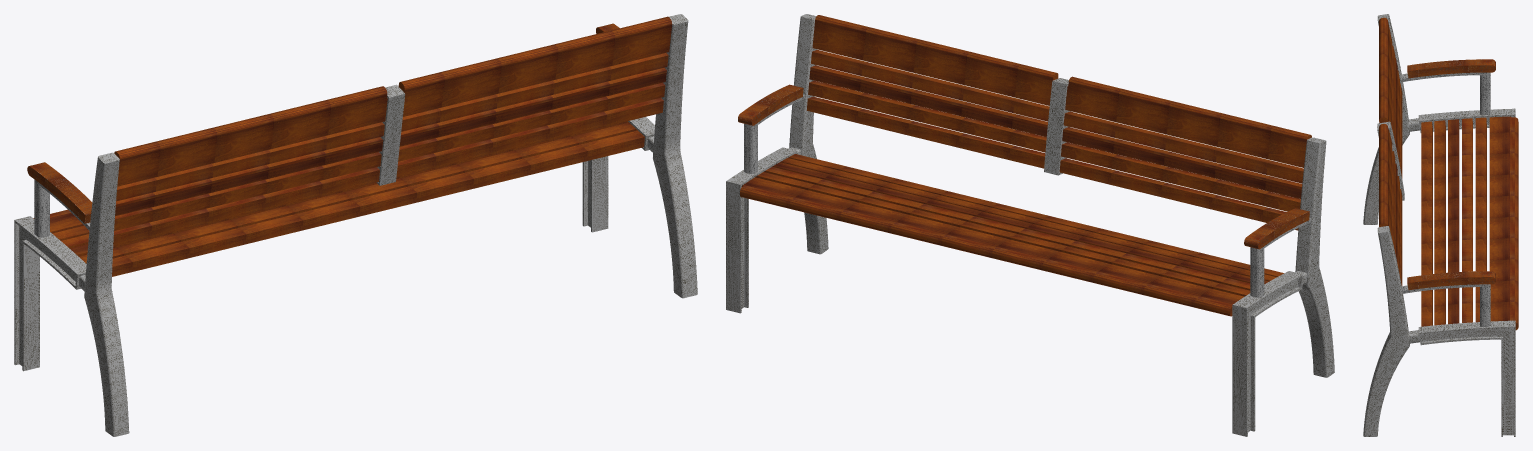
The picture shows the model from 3 angles, left to right: view 1: azimuth 30°, elevation 25°; view 2: azimuth 150°, elevation 25°; view 3: azimuth 270°, elevation 25°; orthographic projection. The views are drawn at different scales.
Visible parts, largest first — view 1: mesh11_mesh11-geometry, mesh1_mesh1-geometry, mesh8_mesh8-geometry, mesh3_mesh3-geometry, mesh7_mesh7-geometry, mesh6_mesh6-geometry, mesh13_mesh13-geometry, mesh5_mesh5-geometry, mesh9_mesh9-geometry, mesh2_mesh2-geometry, mesh15_mesh15-geometry, mesh10_mesh10-geometry; view 2: mesh11_mesh11-geometry, mesh14_mesh14-geometry, mesh1_mesh1-geometry, mesh13_mesh13-geometry, mesh6_mesh6-geometry, mesh5_mesh5-geometry, mesh3_mesh3-geometry, mesh7_mesh7-geometry, mesh12_mesh12-geometry, mesh4_mesh4-geometry, mesh10_mesh10-geometry, mesh9_mesh9-geometry (+4 smaller); view 3: mesh3_mesh3-geometry, mesh14_mesh14-geometry, mesh1_mesh1-geometry, mesh11_mesh11-geometry, mesh9_mesh9-geometry, mesh8_mesh8-geometry, mesh10_mesh10-geometry, mesh4_mesh4-geometry, mesh12_mesh12-geometry, mesh15_mesh15-geometry, mesh16_mesh16-geometry, mesh5_mesh5-geometry (+4 smaller).
Part boxes in pixels (box(x1,y1,x2,y2)): mesh11_mesh11-geometry: box(114, 16, 672, 186); mesh1_mesh1-geometry: box(14, 152, 129, 436); mesh8_mesh8-geometry: box(112, 130, 644, 276); mesh3_mesh3-geometry: box(582, 14, 697, 298); mesh7_mesh7-geometry: box(113, 98, 663, 246); mesh6_mesh6-geometry: box(114, 82, 665, 230); mesh13_mesh13-geometry: box(115, 67, 666, 216); mesh5_mesh5-geometry: box(116, 53, 668, 201); mesh9_mesh9-geometry: box(79, 122, 637, 263); mesh2_mesh2-geometry: box(376, 84, 405, 185); mesh15_mesh15-geometry: box(27, 162, 92, 223); mesh10_mesh10-geometry: box(70, 121, 628, 256); mesh11_mesh11-geometry: box(812, 15, 1311, 167); mesh14_mesh14-geometry: box(740, 177, 1243, 316); mesh1_mesh1-geometry: box(1232, 137, 1334, 436); mesh13_mesh13-geometry: box(809, 65, 1302, 198); mesh6_mesh6-geometry: box(808, 80, 1300, 211); mesh5_mesh5-geometry: box(811, 50, 1303, 183); mesh3_mesh3-geometry: box(726, 14, 828, 313); mesh7_mesh7-geometry: box(806, 96, 1298, 230); mesh12_mesh12-geometry: box(755, 172, 1250, 296); mesh4_mesh4-geometry: box(764, 167, 1250, 290); mesh10_mesh10-geometry: box(772, 162, 1268, 284); mesh9_mesh9-geometry: box(780, 158, 1276, 281); mesh3_mesh3-geometry: box(1363, 226, 1515, 436); mesh14_mesh14-geometry: box(1489, 116, 1518, 330); mesh1_mesh1-geometry: box(1363, 14, 1515, 224); mesh11_mesh11-geometry: box(1379, 17, 1392, 238); mesh9_mesh9-geometry: box(1434, 120, 1445, 325); mesh8_mesh8-geometry: box(1421, 121, 1432, 326); mesh10_mesh10-geometry: box(1448, 119, 1459, 324); mesh4_mesh4-geometry: box(1462, 118, 1472, 322); mesh12_mesh12-geometry: box(1475, 117, 1486, 322); mesh15_mesh15-geometry: box(1407, 59, 1495, 78); mesh16_mesh16-geometry: box(1407, 271, 1495, 290); mesh5_mesh5-geometry: box(1392, 45, 1395, 252).
Size of the model in its own units: 0.8814 by 0.3912 by 0.265.
